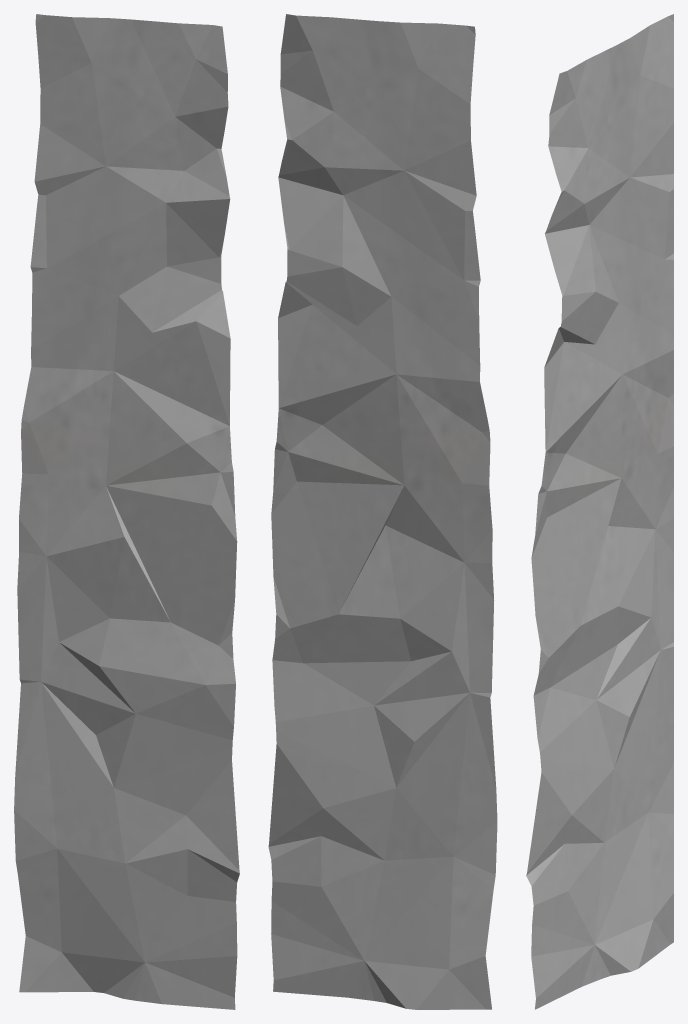
3 views of the same model, side by side, from view 1: azimuth 30°, elevation 25°; view 2: azimuth 210°, elevation 25°; view 3: azimuth 270°, elevation 25° (orthographic). The views are drawn at different scales.
Size of the model in its own units: 0.1342 by 0.8374 by 0.1197.
Materials: 1 (1 with a texture image).
